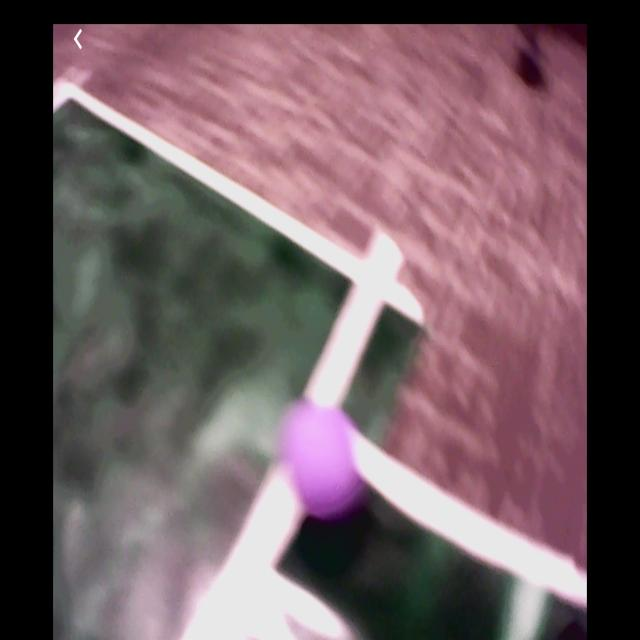ball: (287, 401, 359, 519)
